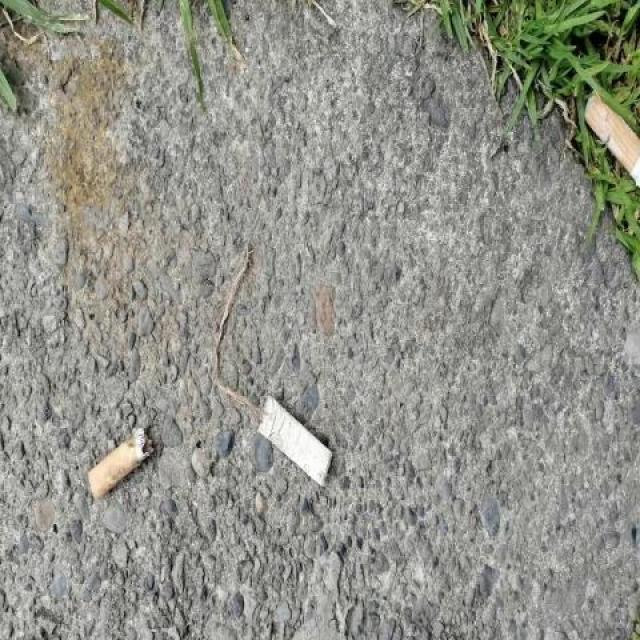non-organic waste: (253, 392, 336, 496), (577, 89, 640, 202), (86, 422, 158, 502)
